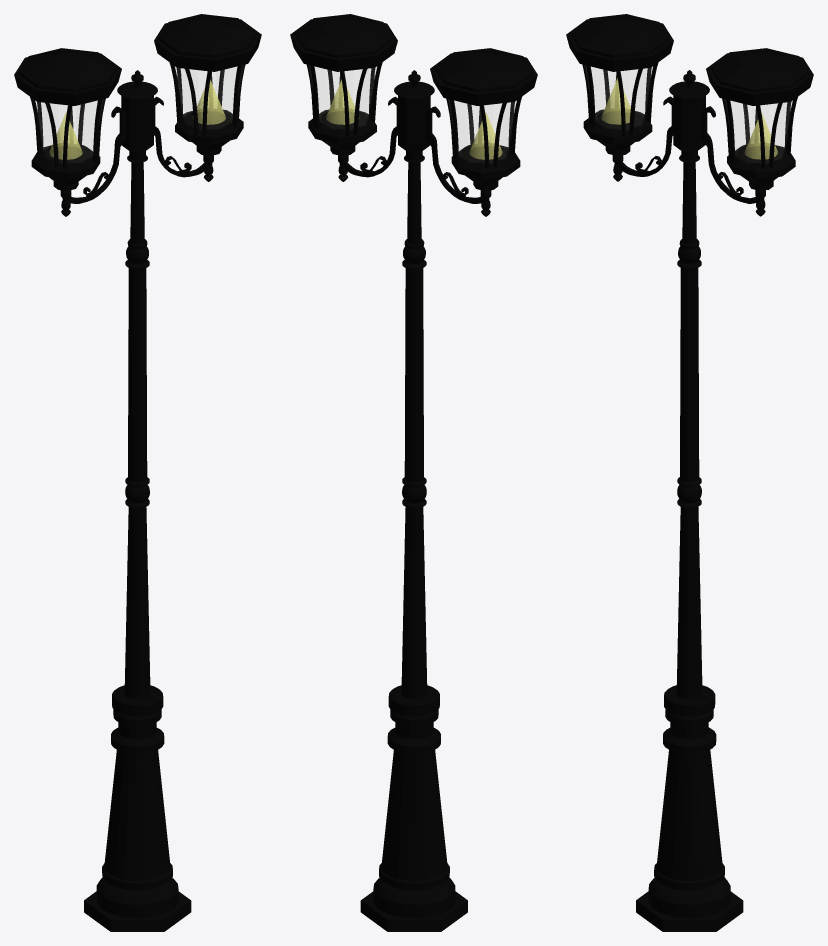
Rendered from newlamp1_LOD.fbx.
The picture shows the model from 3 angles, left to right: view 1: azimuth 30°, elevation 25°; view 2: azimuth 150°, elevation 25°; view 3: azimuth 330°, elevation 25°; orthographic projection.
Parts seen in each view (by area): view 1: lamp_LOD0; view 2: lamp_LOD0; view 3: lamp_LOD0.
Boxes of the visible parts, x1,y1,x2,y2 form: lamp_LOD0: (14, 14, 261, 931); lamp_LOD0: (290, 14, 537, 931); lamp_LOD0: (566, 14, 813, 931).
Size of the model in its own units: 2.94 by 10.76 by 1.21.
